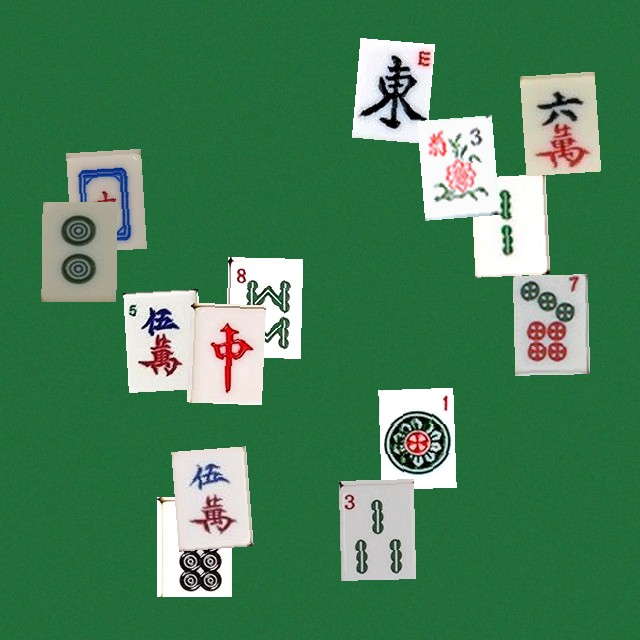tile: (123, 288, 198, 388), (66, 148, 141, 248), (378, 387, 453, 487), (338, 479, 413, 579), (512, 274, 587, 374), (225, 257, 300, 357), (351, 37, 426, 137), (470, 174, 545, 274), (156, 496, 231, 596), (519, 71, 594, 171), (171, 446, 246, 546), (41, 201, 116, 301), (186, 302, 261, 402), (417, 115, 492, 215)
